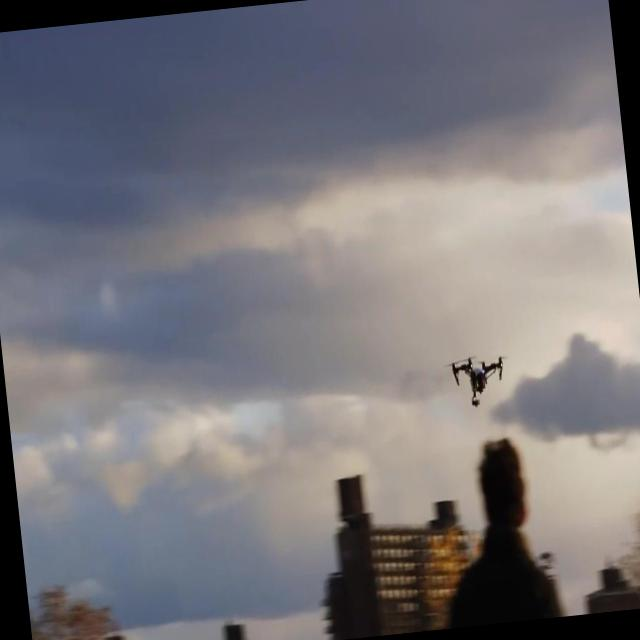drone: (446, 351, 514, 414)
